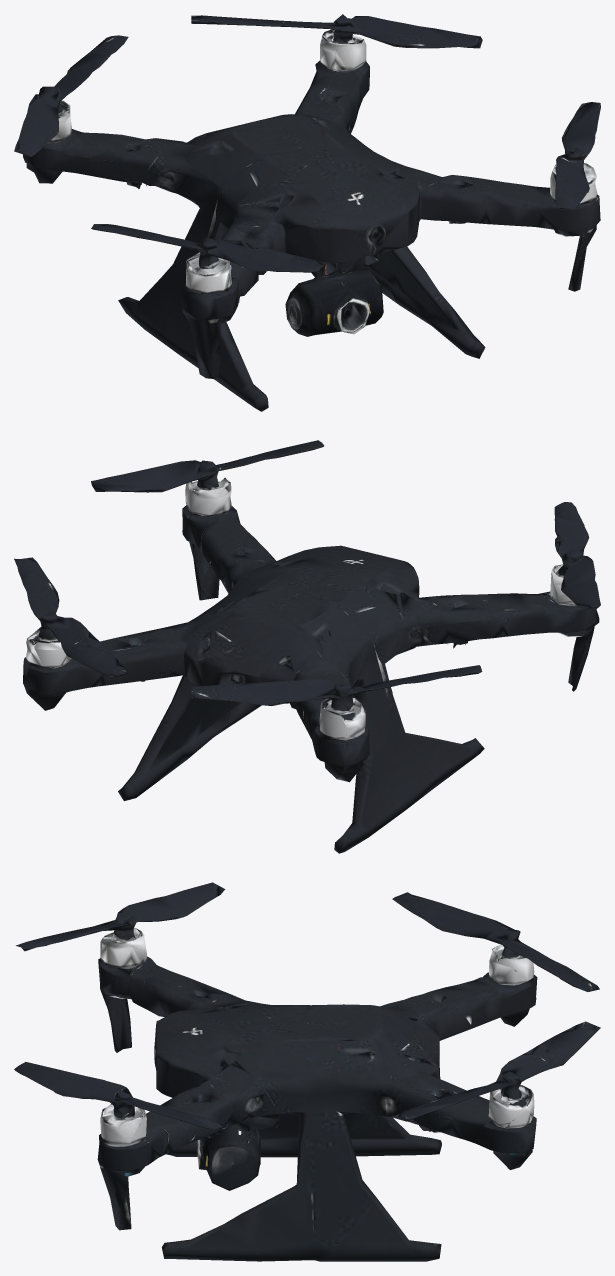
File: drone_p.glb
3 views of the same model, one above another, from view 1: azimuth 30°, elevation 25°; view 2: azimuth 150°, elevation 25°; view 3: azimuth 270°, elevation 25° (orthographic).
Bounding box in the file's own units: 1.89 × 0.7336 × 1.9.
Materials: 1 (1 with a texture image).
